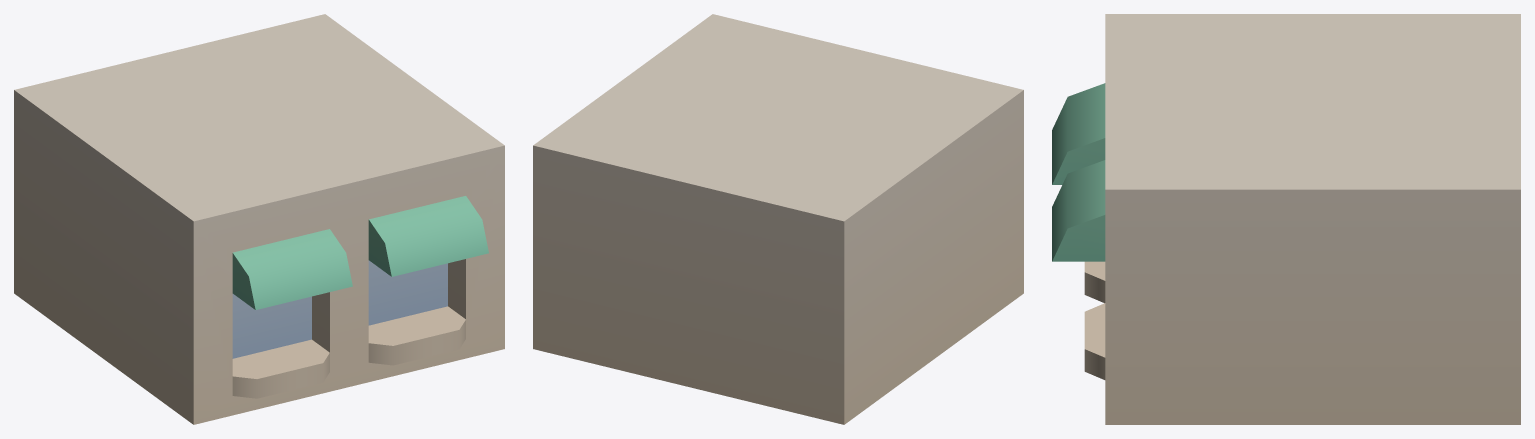
File: building-window-awnings.glb
3 renders of one model, left to right at view 1: azimuth 30°, elevation 25°; view 2: azimuth 150°, elevation 25°; view 3: azimuth 270°, elevation 25°, orthographic. The views are drawn at different scales.
Parts seen in each view (by area): view 1: building-window-awnings; view 2: building-window-awnings; view 3: building-window-awnings.
Boxes of the visible parts, <box> form: building-window-awnings: <box>14,14,504,424</box>; building-window-awnings: <box>533,14,1023,424</box>; building-window-awnings: <box>1052,14,1520,424</box>.
Bounding box in the file's own units: 1 × 0.625 × 1.13.
